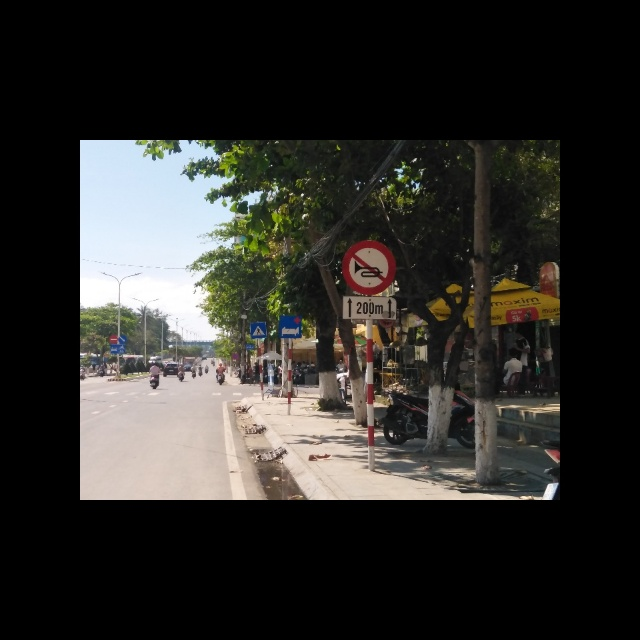Bệnh viện: (279, 316, 302, 339)
Cấm bấm còi: (343, 240, 397, 296)
Đường dành cho người đi bộ: (250, 321, 266, 339)
